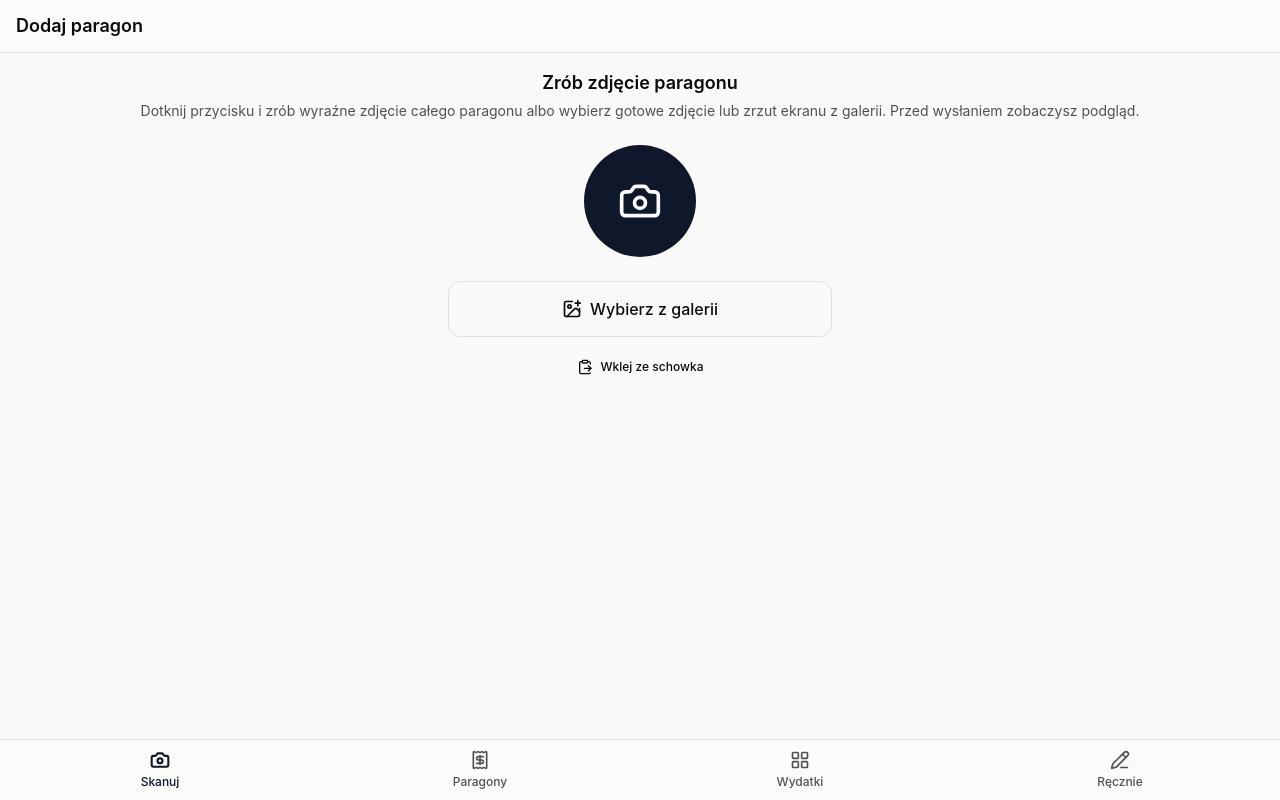
Test: CaptureRoute — Wklej ze schowka button › tells the user when the clipboard holds no image, without a dead end
The image size is (1280, 800).
Step 1. Click the button "Wklej ze schowka" → (640, 367), box top-left (448, 345), bottom-right (832, 389)
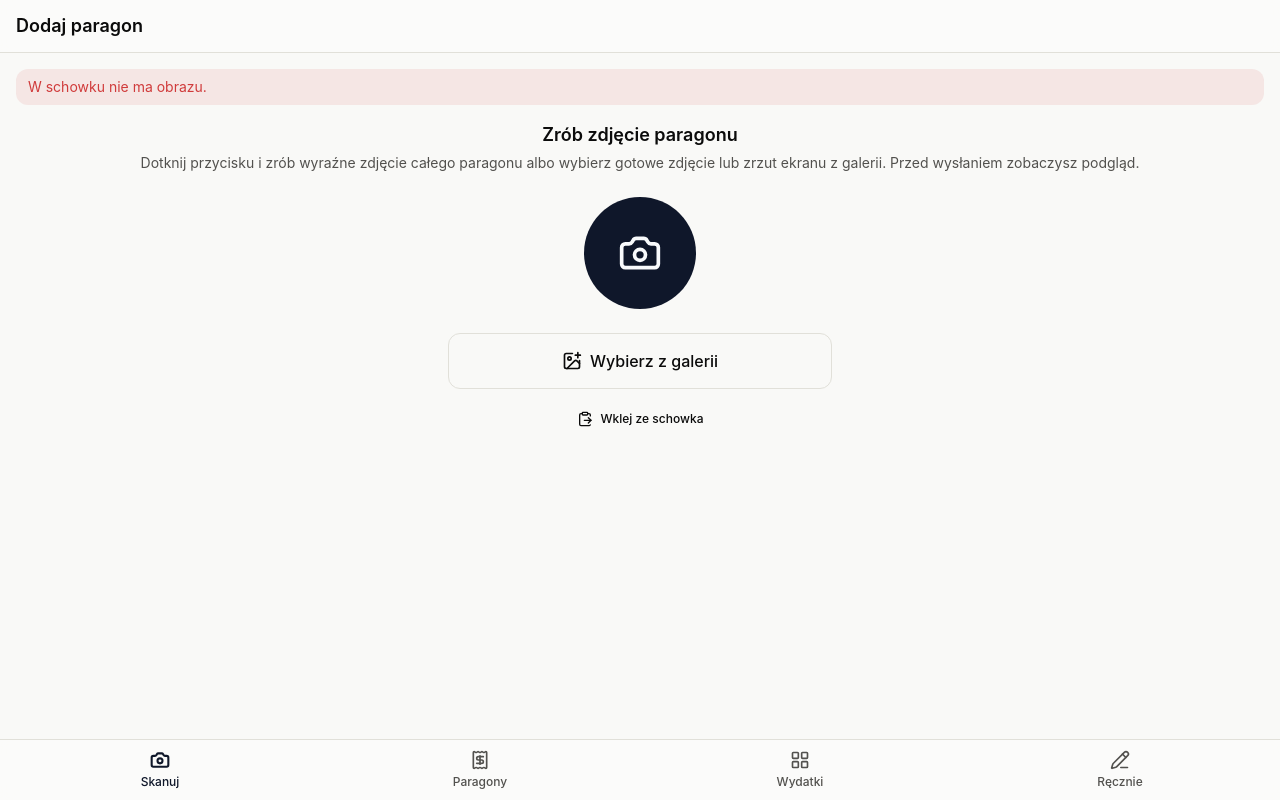
Check: the button "Wybierz z galerii" is shown, box top-left (448, 333), bottom-right (832, 389)
Check: the message reads "W schowku nie ma obrazu.", box top-left (28, 78), bottom-right (207, 95)
